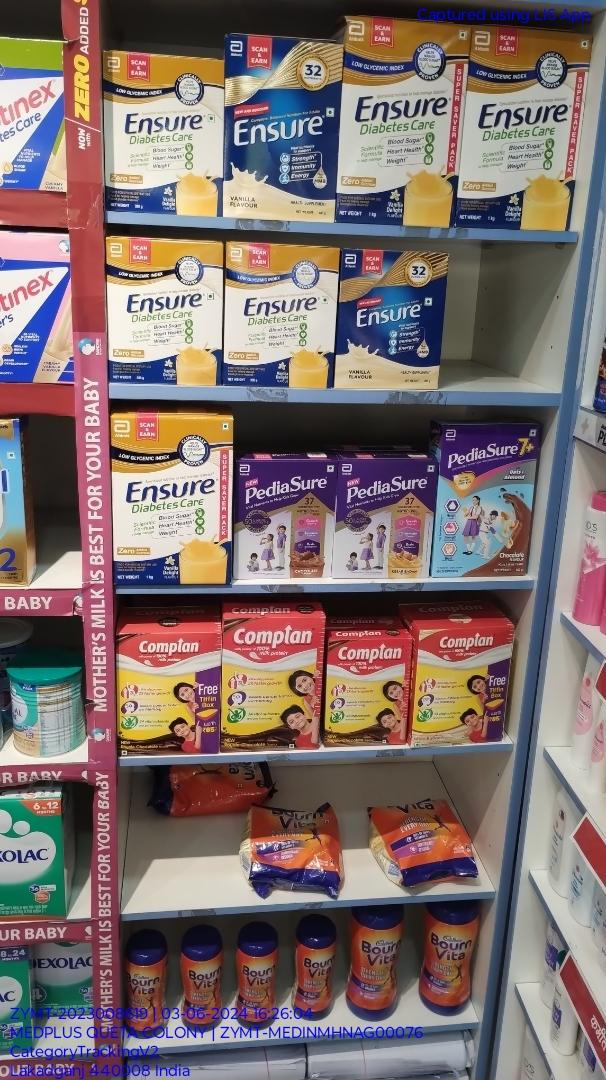ENSURE_VANILLA_400_G_PACK: (225, 32, 334, 223), (339, 252, 448, 388)
